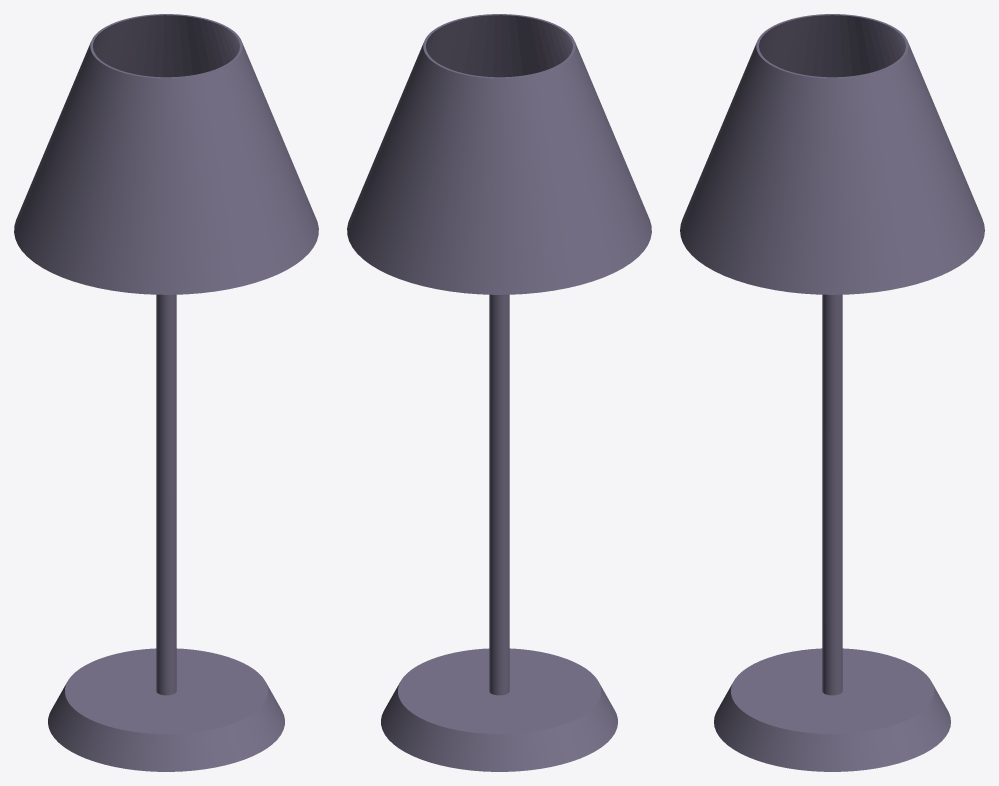
The model's file is start_lamp.glb.
The picture shows the model from 3 angles, left to right: view 1: azimuth 30°, elevation 25°; view 2: azimuth 150°, elevation 25°; view 3: azimuth 270°, elevation 25°; orthographic projection.
Visible parts, largest first — view 1: base; view 2: base; view 3: base.
Part boxes in pixels (x1=…): base: x1=14, y1=14, x2=318, y2=771; base: x1=347, y1=14, x2=651, y2=771; base: x1=680, y1=14, x2=984, y2=771.
Bounding box in the file's own units: 0.18 × 0.44 × 0.18.
